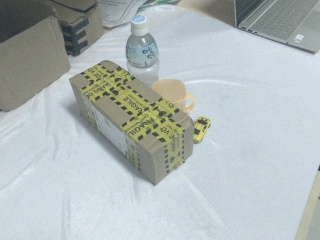bottle: (126, 15, 160, 88)
box: (69, 60, 195, 186)
cup: (151, 79, 197, 114)
toy_car: (194, 117, 211, 144)
